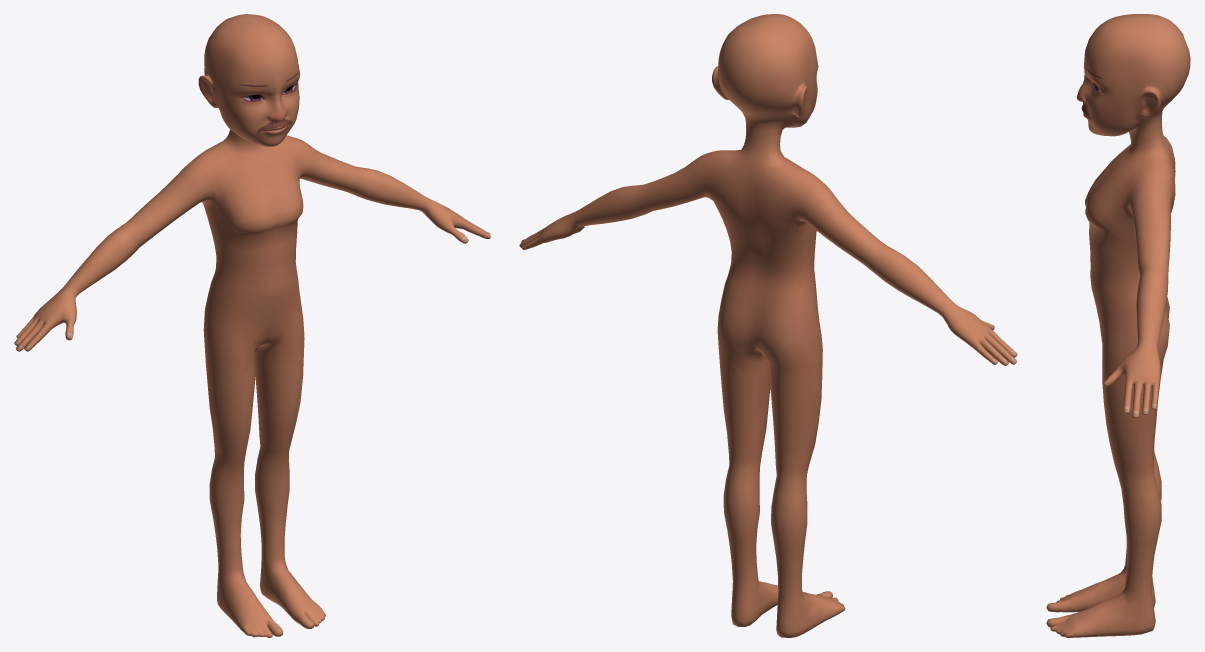
The model's file is frame_0005.glb.
3 views of the same model, side by side, from view 1: azimuth 30°, elevation 25°; view 2: azimuth 150°, elevation 25°; view 3: azimuth 270°, elevation 25° (orthographic). The views are drawn at different scales.
Visible parts, largest first — view 1: frame_0005_head_geo; view 2: frame_0005_head_geo; view 3: frame_0005_head_geo.
Part boxes in pixels (bbox=[...]): frame_0005_head_geo: bbox=[14, 14, 490, 637]; frame_0005_head_geo: bbox=[519, 14, 1017, 637]; frame_0005_head_geo: bbox=[1046, 14, 1190, 637].
Bounding box in the file's own units: 1.28 × 1.5 × 0.3253.
Materials: 3 (3 with a texture image).
